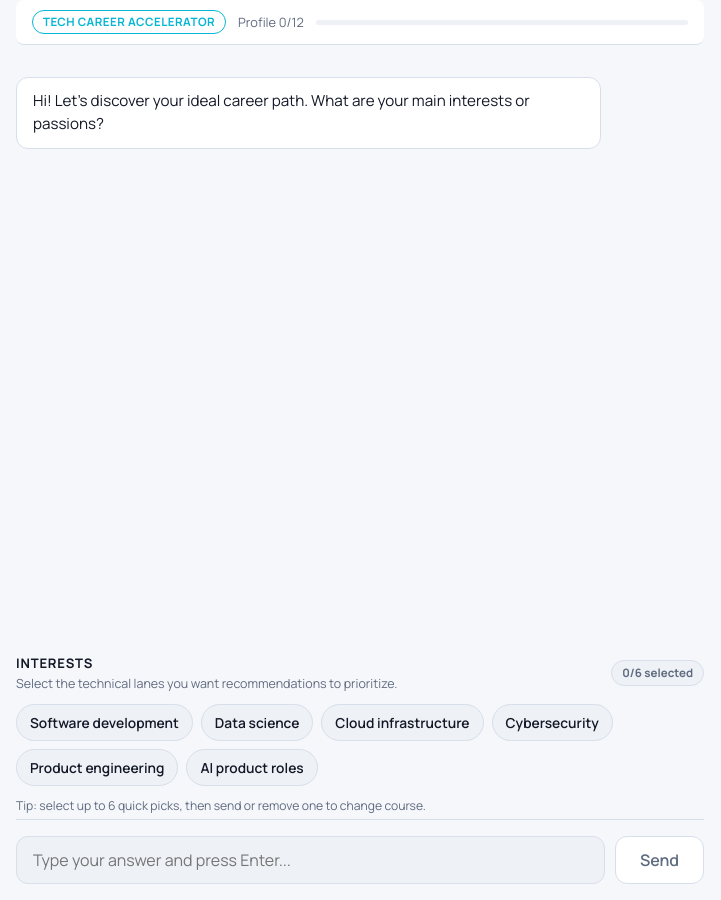
Test case: Onboarding › shows send error and restores input when message send fails
In the field with placeholder "Type your answer and press Enter...": (310, 860) left=16, top=836, right=605, bottom=884, type "test answer"
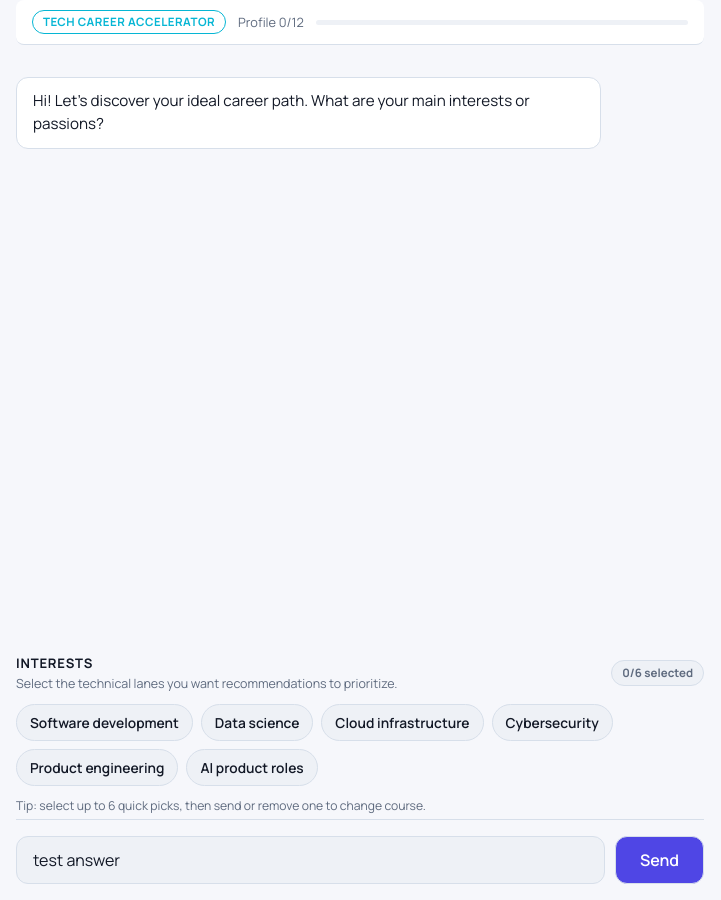
Press Enter
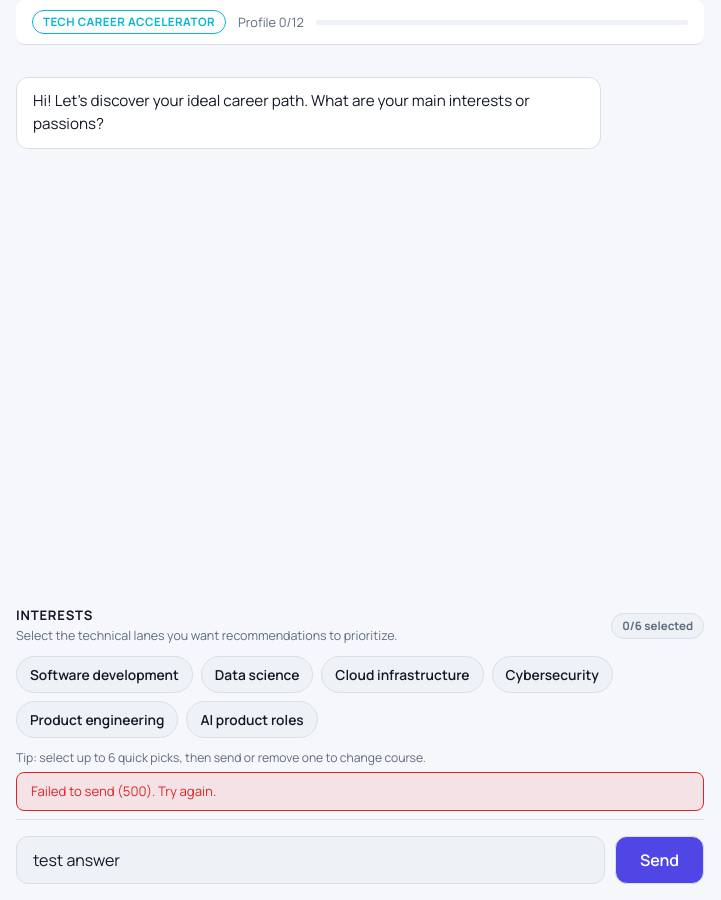
expect the text "Failed to send (500). Try again." is shown: met, box left=16, top=772, right=704, bottom=811
